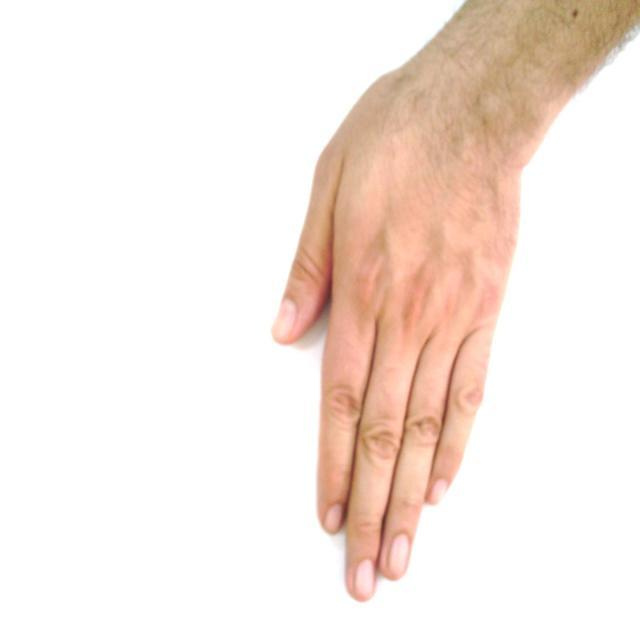Fingernail: (273, 299, 297, 338), (388, 535, 409, 577), (354, 560, 375, 601), (430, 479, 448, 505), (326, 506, 343, 533)
